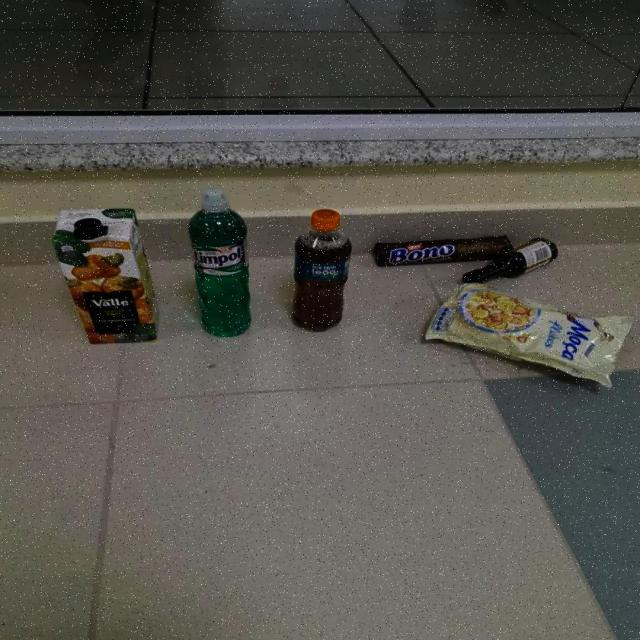Cleaner: (188, 192, 252, 340)
Cookies: (372, 238, 520, 270)
CornFlakes: (422, 284, 633, 390)
EnglishSauce: (466, 235, 560, 286)
IceTea: (291, 208, 353, 334)
